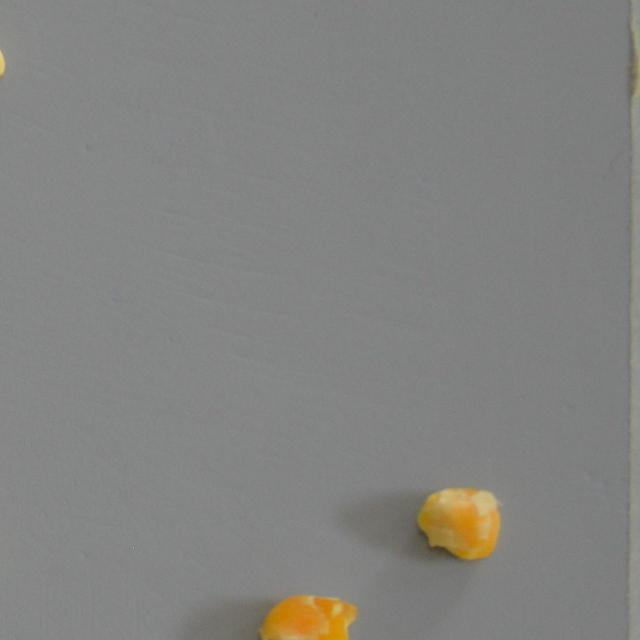pelicula: (411, 460, 508, 571), (254, 562, 360, 640), (0, 0, 10, 110)
